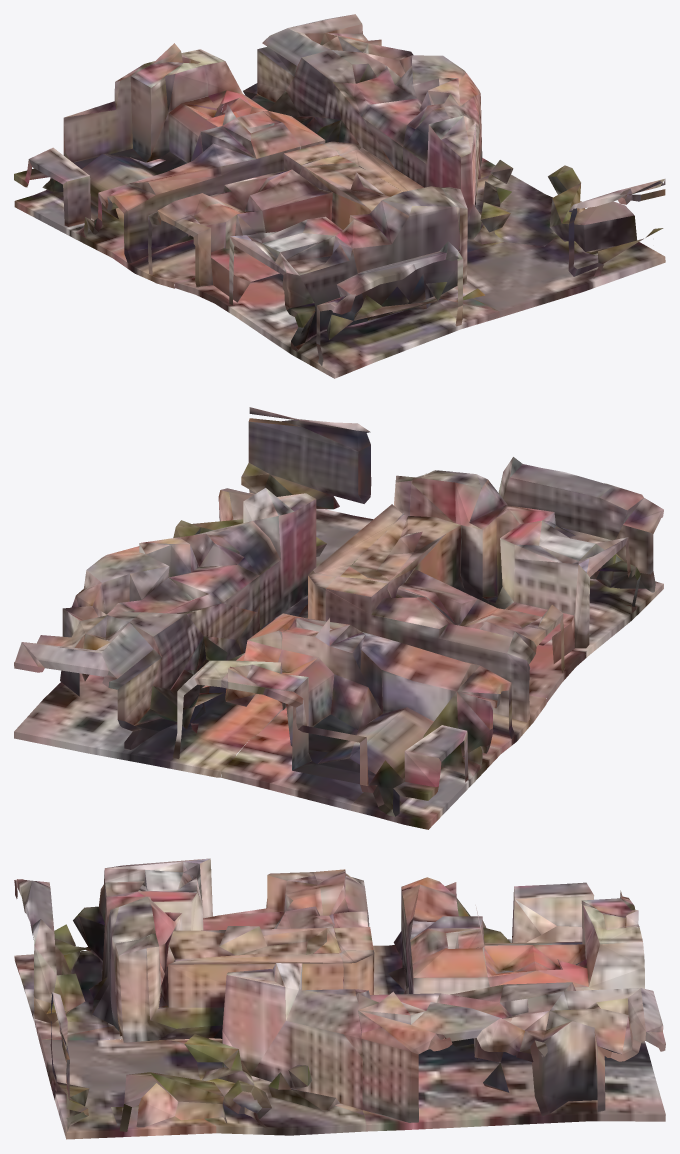
3 views of the same model, one above another, from view 1: azimuth 30°, elevation 25°; view 2: azimuth 150°, elevation 25°; view 3: azimuth 270°, elevation 25° (orthographic). The views are drawn at different scales.
Parts seen in each view (by area): view 1: Mesh_0; view 2: Mesh_0; view 3: Mesh_0.
Boxes of the visible parts, <box> form: Mesh_0: <box>14,14,665,378</box>; Mesh_0: <box>14,407,663,829</box>; Mesh_0: <box>14,858,665,1139</box>.
Bounding box in the file's own units: 133 × 40.28 × 165.
1 material, 1 textured.
